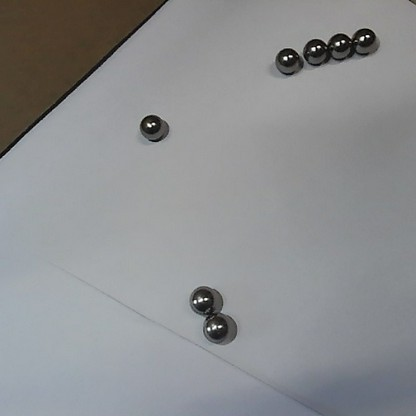ironball: (202, 313, 237, 348), (186, 282, 222, 315), (300, 32, 329, 68), (272, 45, 301, 80), (325, 30, 352, 62), (140, 111, 168, 141), (351, 24, 378, 55)
